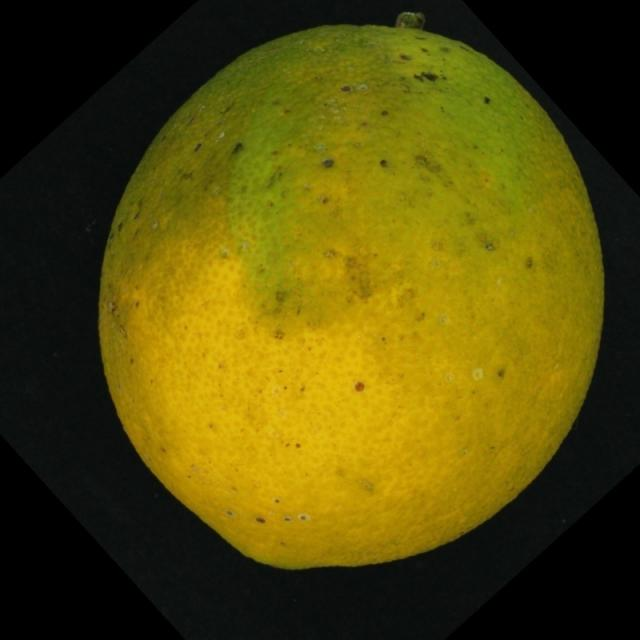grenning: (72, 18, 618, 590)
